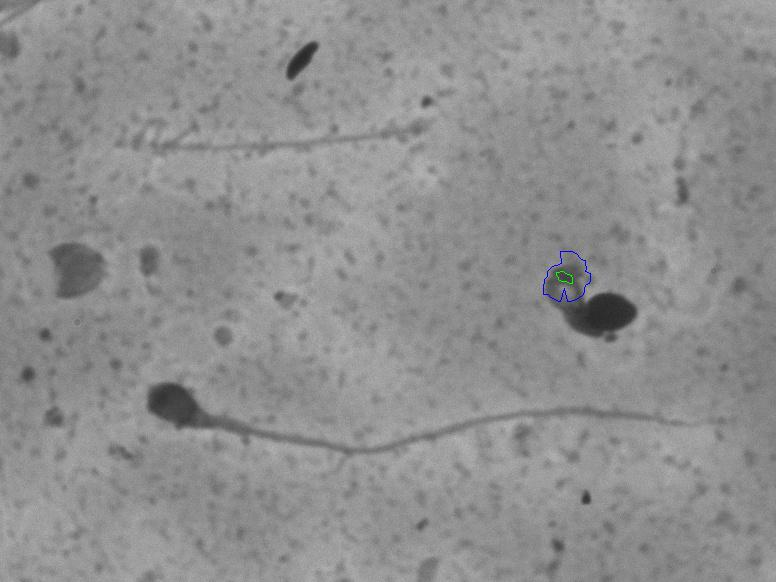Abnormal: (118, 359, 737, 471)
